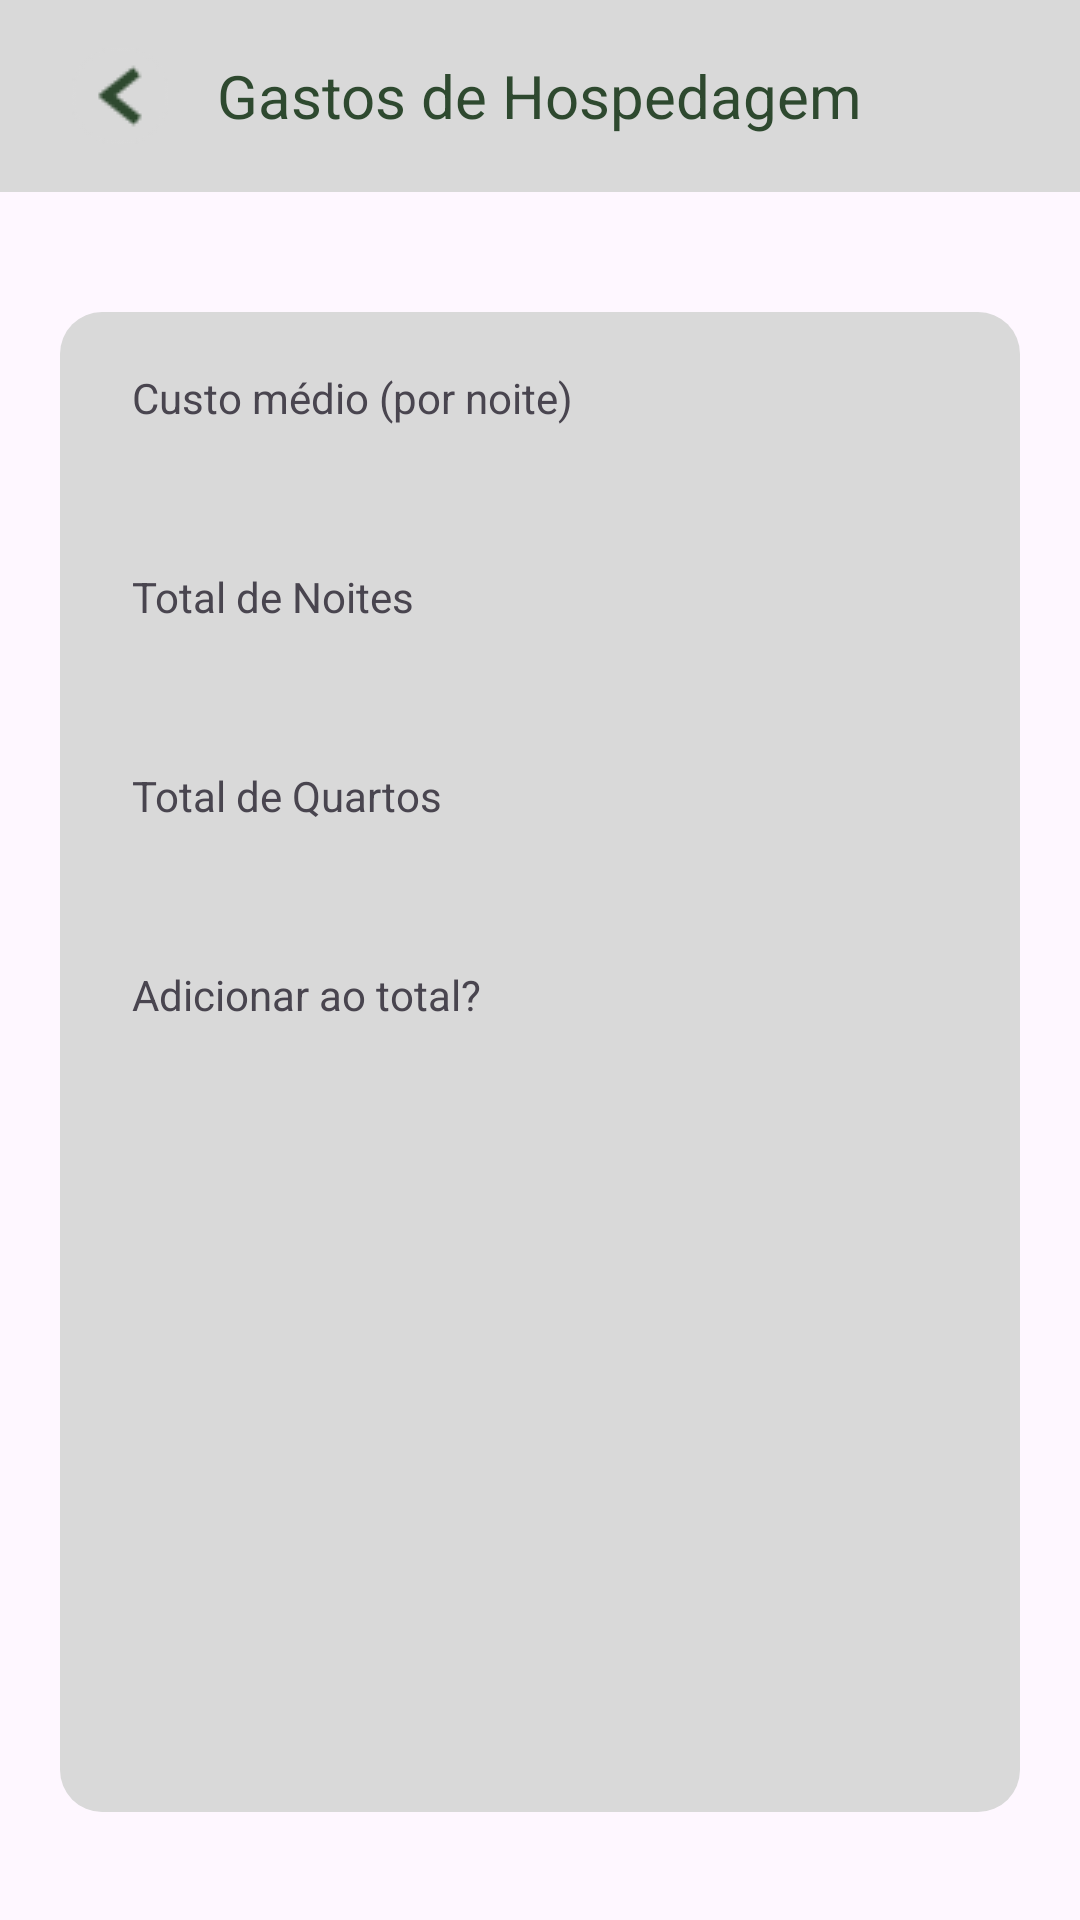

Named icons in this screenshot (1080px×1920px) and their centers, [x,y]:
Voltar: [120,96]
